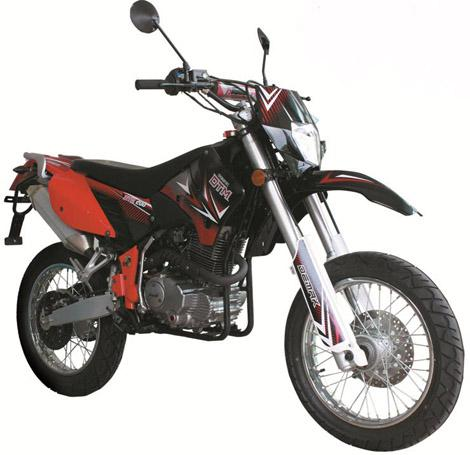motorbike: (3, 1, 464, 452)
